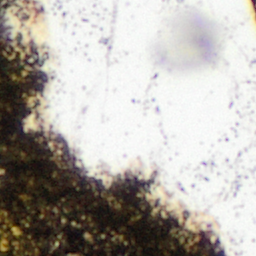cement_matrix: (0, 0, 222, 255), (254, 0, 255, 4)
gravel_crushed_stones: (1, 0, 255, 255)
